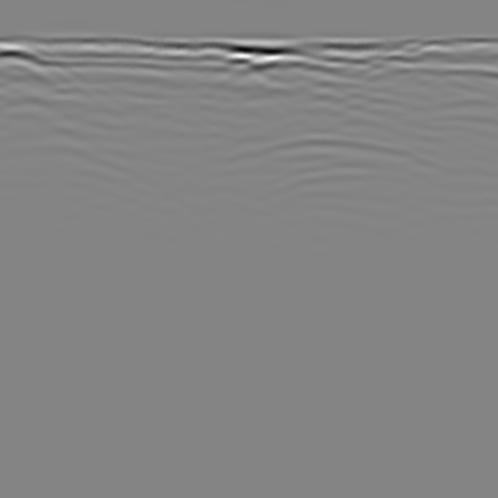hyperbola: (168, 125, 452, 227)
